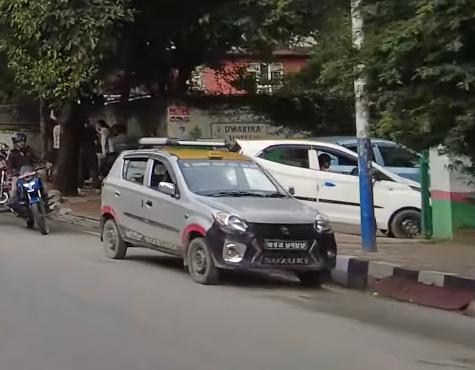bike: (0, 157, 63, 242)
car: (237, 136, 437, 243)
taxi: (93, 133, 341, 288)
